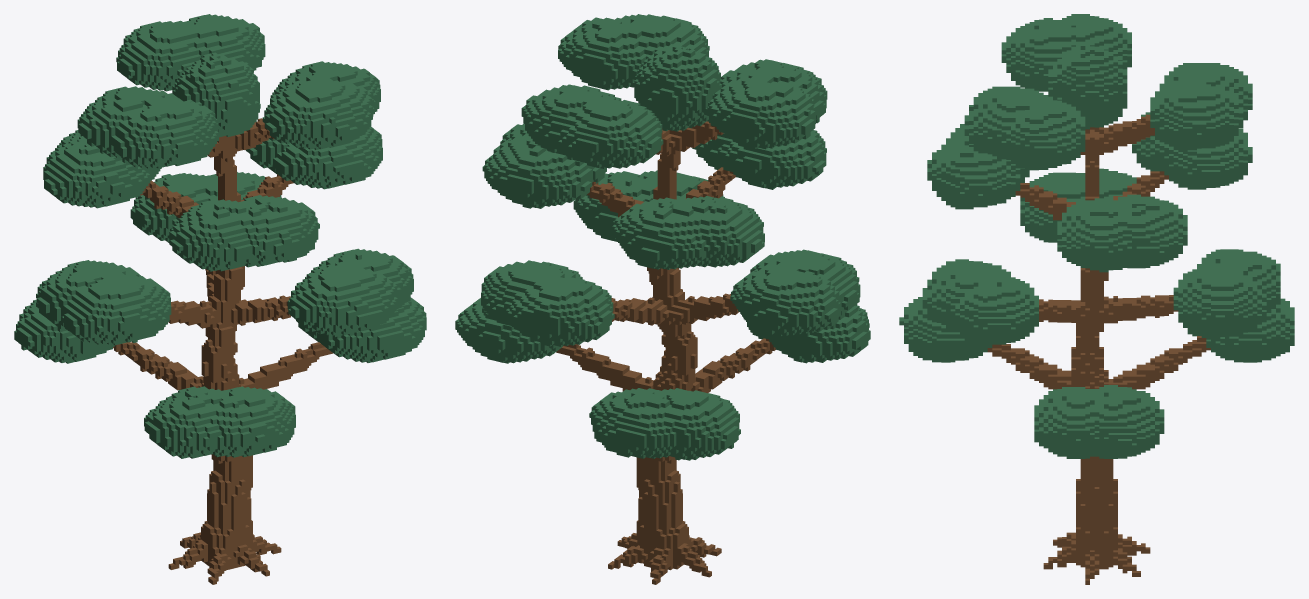
The model's file is visual-far.glb.
3 renders of one model, left to right at view 1: azimuth 30°, elevation 25°; view 2: azimuth 150°, elevation 25°; view 3: azimuth 270°, elevation 25°, orthographic.
Visible parts, largest first — view 1: 既有乔木色阶与高度族; view 2: 既有乔木色阶与高度族; view 3: 既有乔木色阶与高度族.
Part boxes in pixels (bbox=[...]): 既有乔木色阶与高度族: bbox=[14, 14, 426, 584]; 既有乔木色阶与高度族: bbox=[455, 14, 870, 584]; 既有乔木色阶与高度族: bbox=[899, 14, 1294, 584].
Bounding box in the file's own units: 18 × 24 × 17.
3 materials, 3 textured.
